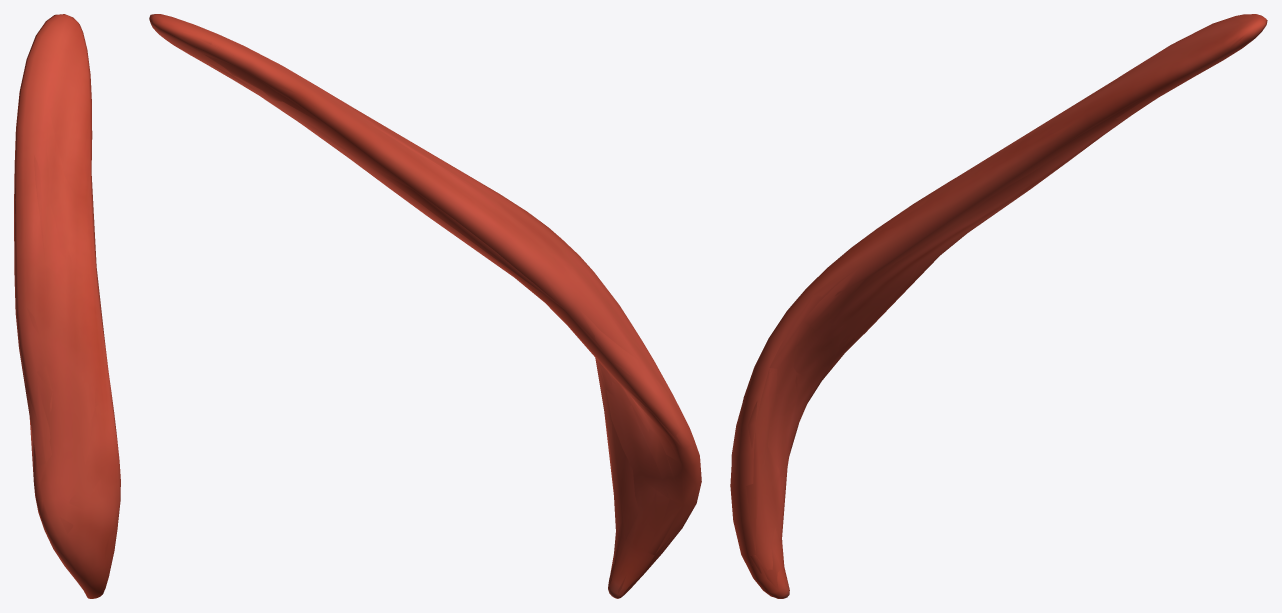
File: R Supraspinatus.fbx
3 renders of one model, left to right at view 1: azimuth 30°, elevation 25°; view 2: azimuth 150°, elevation 25°; view 3: azimuth 270°, elevation 25°, orthographic. The views are drawn at different scales.
Visible parts, largest first — view 1: R Supraspinatus, R Supraspinatus low; view 2: R Supraspinatus, R Supraspinatus low; view 3: R Supraspinatus, R Supraspinatus low.
Boxes of the visible parts, x1,y1,x2,y2 form: R Supraspinatus: (14,14,120,598); R Supraspinatus low: (15,15,118,596); R Supraspinatus: (149,14,701,598); R Supraspinatus low: (150,15,699,597); R Supraspinatus: (730,14,1267,598); R Supraspinatus low: (731,20,1264,598).
Bounding box in the file's own units: 7.55 × 16.91 × 12.25.
